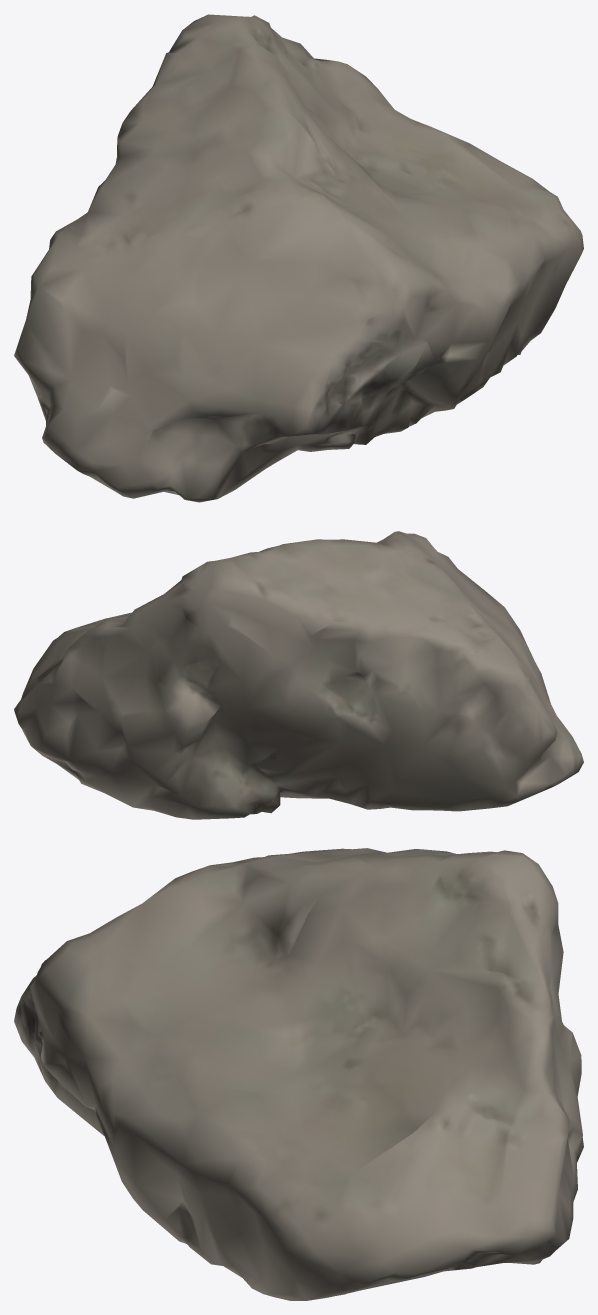
File: moon_rock_03_lod1.glb
The picture shows the model from 3 angles, top to bottom: view 1: azimuth 30°, elevation 25°; view 2: azimuth 150°, elevation 25°; view 3: azimuth 270°, elevation 25°; orthographic projection. The views are drawn at different scales.
Parts seen in each view (by area): view 1: moon_rock_03_LOD0; view 2: moon_rock_03_LOD0; view 3: moon_rock_03_LOD0.
Part boxes in pixels (bbox=[...]): moon_rock_03_LOD0: bbox=[14, 14, 583, 502]; moon_rock_03_LOD0: bbox=[14, 531, 583, 819]; moon_rock_03_LOD0: bbox=[14, 848, 583, 1300].
Bounding box in the file's own units: 0.112 × 0.0582 × 0.0861.
Materials: 1 (1 with a texture image).
